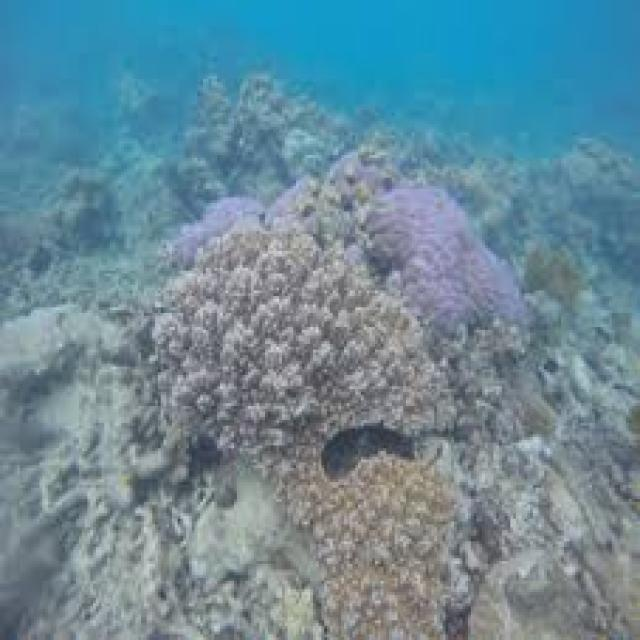Healthy: (136, 224, 430, 455), (297, 455, 452, 638), (368, 181, 528, 331)
